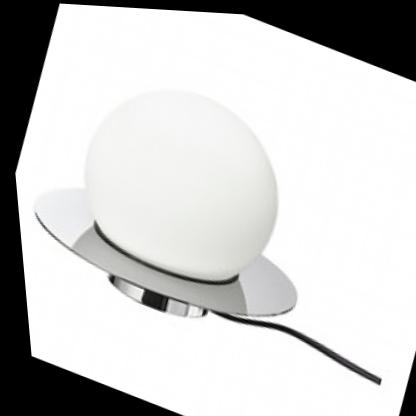Lamp: (0, 0, 393, 416)
